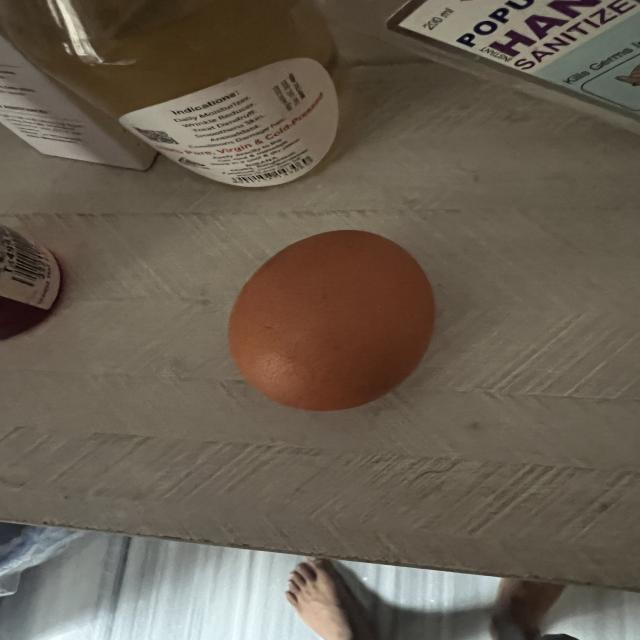egg: (219, 220, 442, 413)
